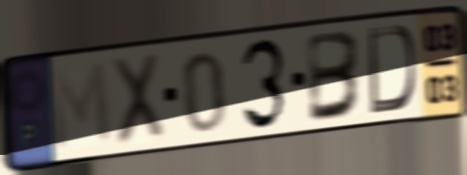0: (178, 48, 231, 135)
3: (235, 35, 291, 133)
B: (306, 28, 365, 126)
D: (366, 22, 419, 117)
M: (48, 58, 115, 155)
X: (109, 49, 168, 150)
